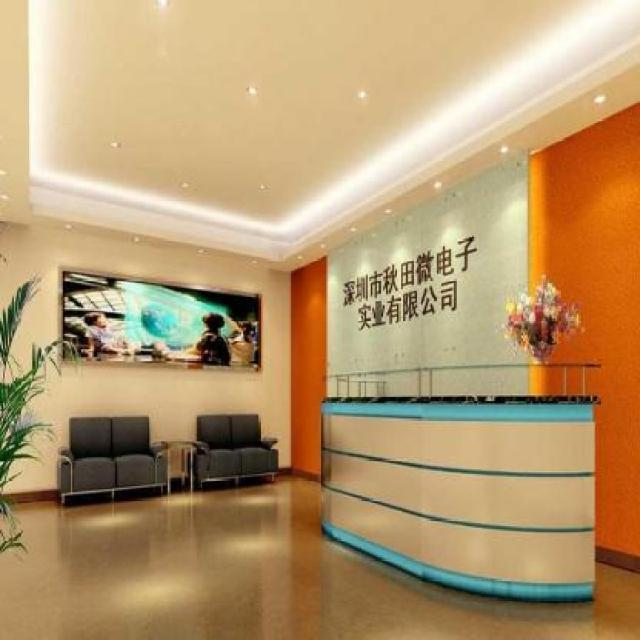frontdesk: (311, 358, 612, 608)
